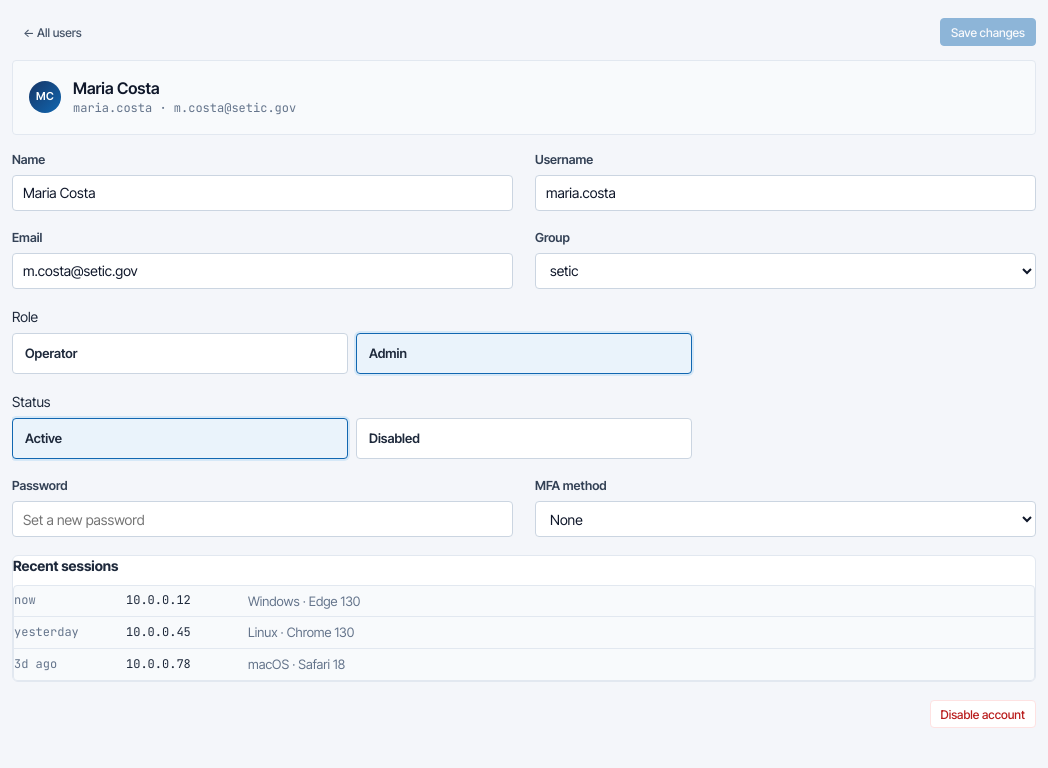
UserEditor › Save button enables when only fullName is edited
Expected: the button "Save changes" is disabled, [940, 18, 1036, 46]
Replace the text in the field labelled "Name" with "Maria S. Costa" at (262, 193), box [12, 175, 513, 211]
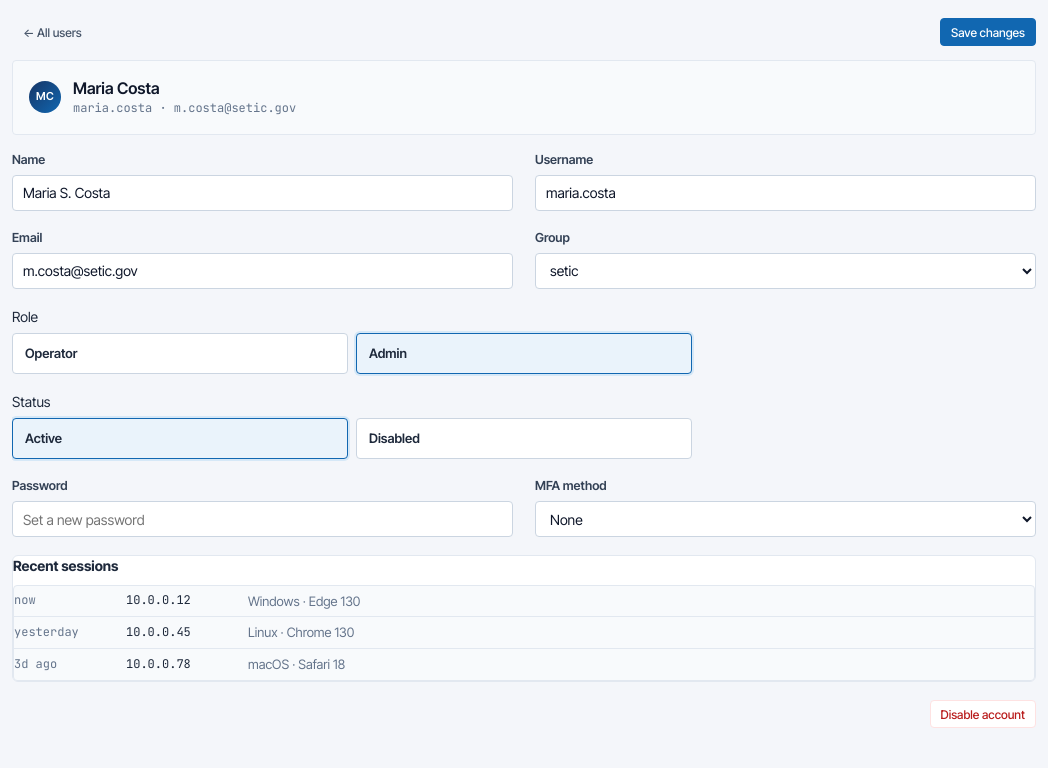
Expected: the button "Save changes" is enabled, [940, 18, 1036, 46]
